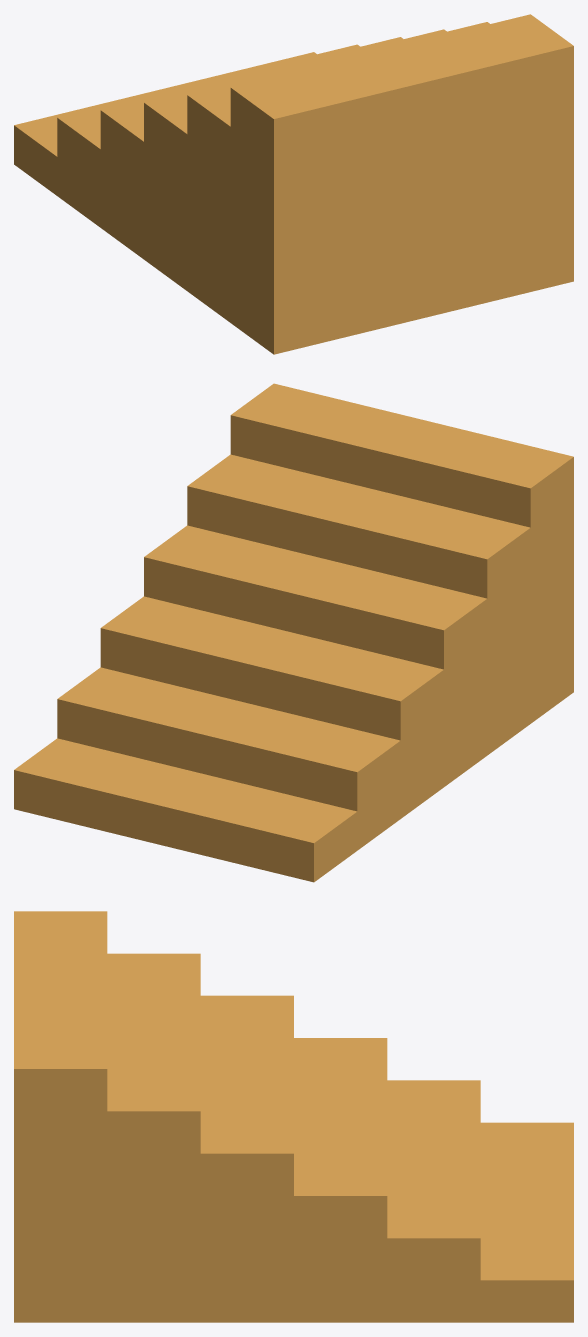
The model's file is giant_stair_4x6x3.glb.
3 renders of one model, top to bottom at view 1: azimuth 30°, elevation 25°; view 2: azimuth 150°, elevation 25°; view 3: azimuth 270°, elevation 25°, orthographic. The views are drawn at different scales.
Parts seen in each view (by area): view 1: giant_stair_step_06, giant_stair_step_01, giant_stair_step_02, giant_stair_step_03, giant_stair_step_04, giant_stair_step_05; view 2: giant_stair_step_01, giant_stair_step_02, giant_stair_step_03, giant_stair_step_04, giant_stair_step_05, giant_stair_step_06; view 3: giant_stair_step_01, giant_stair_step_02, giant_stair_step_03, giant_stair_step_04, giant_stair_step_05, giant_stair_step_06.
Part boxes in pixels (bbox=[...]): giant_stair_step_06: bbox=[230, 14, 573, 158]; giant_stair_step_01: bbox=[14, 52, 573, 354]; giant_stair_step_02: bbox=[57, 44, 573, 315]; giant_stair_step_03: bbox=[100, 37, 573, 275]; giant_stair_step_04: bbox=[144, 29, 573, 236]; giant_stair_step_05: bbox=[187, 22, 573, 197]; giant_stair_step_01: bbox=[14, 653, 573, 882]; giant_stair_step_02: bbox=[57, 614, 573, 811]; giant_stair_step_03: bbox=[100, 575, 573, 740]; giant_stair_step_04: bbox=[144, 525, 573, 669]; giant_stair_step_05: bbox=[187, 454, 573, 598]; giant_stair_step_06: bbox=[230, 383, 573, 527]; giant_stair_step_01: bbox=[14, 1122, 573, 1322]; giant_stair_step_02: bbox=[14, 1080, 480, 1280]; giant_stair_step_03: bbox=[14, 1038, 387, 1238]; giant_stair_step_04: bbox=[14, 995, 293, 1195]; giant_stair_step_05: bbox=[14, 953, 200, 1153]; giant_stair_step_06: bbox=[14, 911, 107, 1111].
Bounding box in the file's own units: 4 × 3 × 6.
